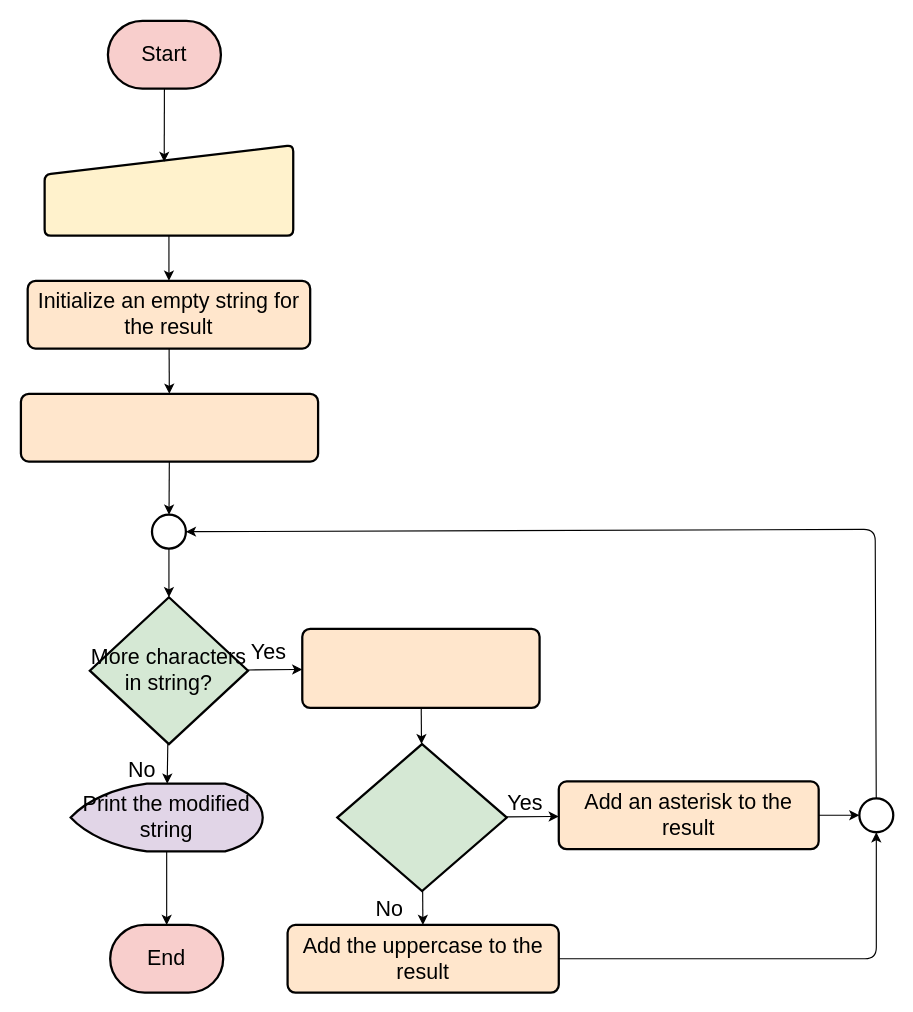
Image size: 913x1012. Some labels were removed from this diagram. Each missing label, with the centre of its shape:
convert character to uppercase: (x=420, y=668)
Define vowls as "aeiouAEIOU": (x=169, y=427)
Is character a vowel?: (x=421, y=817)
Read input string from the user: (x=168, y=190)
